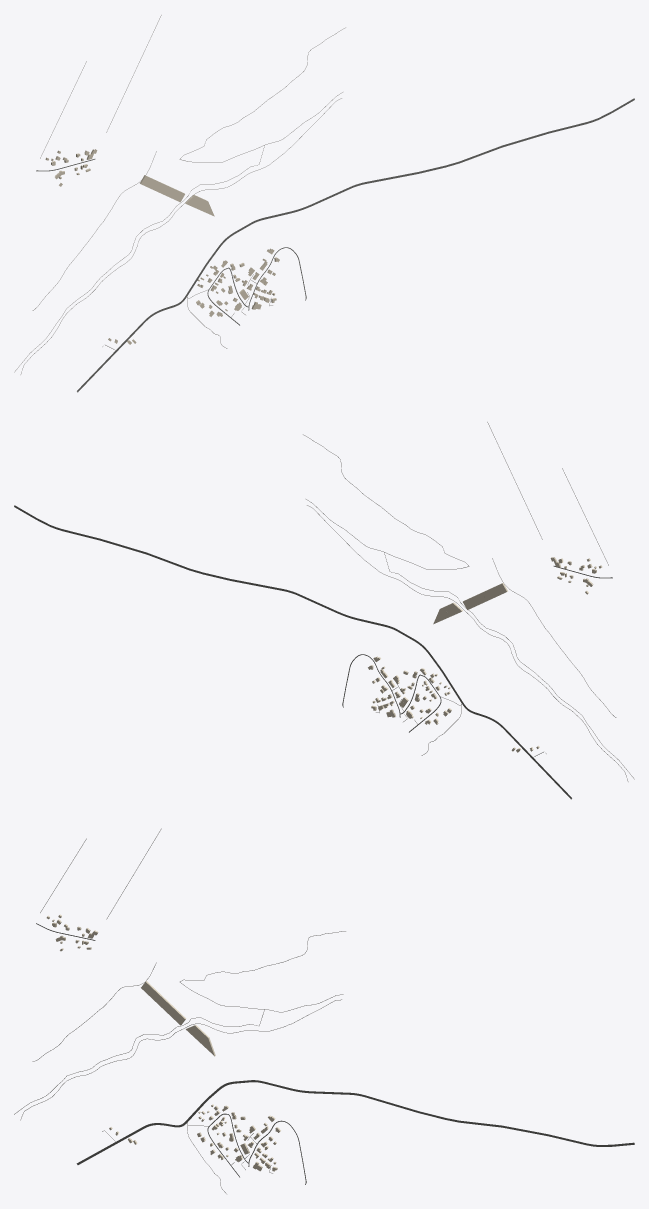
File: historic-palestine-08_31_3500_3252.glb
The picture shows the model from 3 angles, top to bottom: view 1: azimuth 30°, elevation 25°; view 2: azimuth 150°, elevation 25°; view 3: azimuth 330°, elevation 25°; orthographic projection.
Parts seen in each view (by area): view 1: Road 653; view 2: Road 653; view 3: Road 653, Building_.
Part boxes in pixels (<box>): Road 653: <box>77,98,634,392</box>; Road 653: <box>14,505,571,799</box>; Road 653: <box>76,1080,634,1164</box>; Building_: <box>141,981,186,1025</box>.
Size of the model in its own units: 2551 by 1404 by 8.7.
